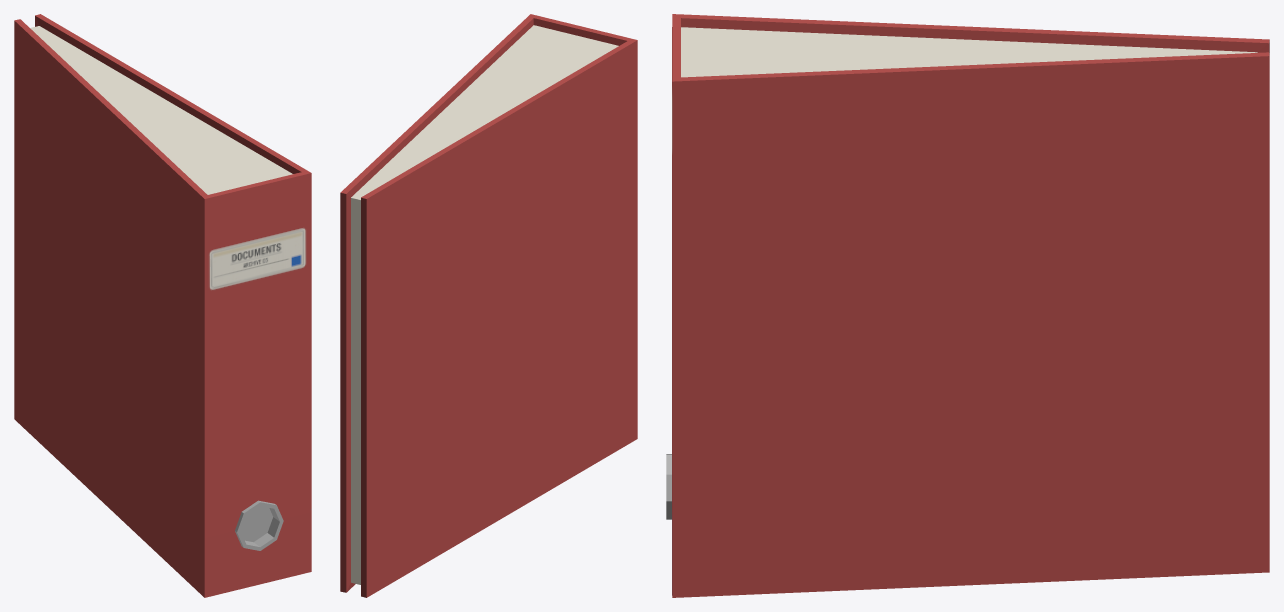
Rendered from Document_Cover_Red.fbx.
The picture shows the model from 3 angles, left to right: view 1: azimuth 30°, elevation 25°; view 2: azimuth 150°, elevation 25°; view 3: azimuth 270°, elevation 25°; orthographic projection. The views are drawn at different scales.
Visible parts, largest first — view 1: Cape_Office.001; view 2: Cape_Office.001; view 3: Cape_Office.001.
Boxes of the visible parts, bbox=[...] form: Cape_Office.001: bbox=[14, 14, 311, 597]; Cape_Office.001: bbox=[340, 14, 637, 597]; Cape_Office.001: bbox=[666, 14, 1269, 597].
Size of the model in its own units: 8 by 28.5 by 30.17.
